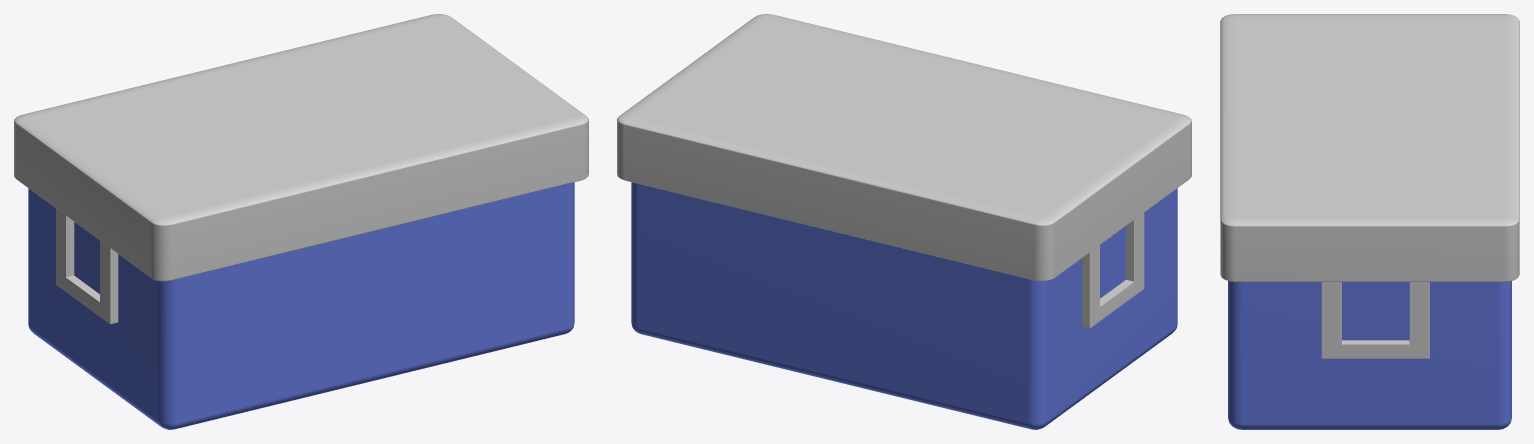
The model's file is Final_Cooler.fbx.
3 renders of one model, left to right at view 1: azimuth 30°, elevation 25°; view 2: azimuth 150°, elevation 25°; view 3: azimuth 270°, elevation 25°, orthographic.
Parts seen in each view (by area): view 1: pCube23, pCube22, pCube24; view 2: pCube23, pCube22, pCube24; view 3: pCube23, pCube22, pCube25.
Part boxes in pixels (left/top/right/bottom): pCube23: left=14, top=14, right=588, bottom=281; pCube22: left=28, top=182, right=574, bottom=429; pCube24: left=56, top=208, right=118, bottom=324; pCube23: left=617, top=14, right=1191, bottom=281; pCube22: left=631, top=182, right=1177, bottom=429; pCube24: left=1081, top=213, right=1144, bottom=328; pCube23: left=1220, top=14, right=1519, bottom=281; pCube22: left=1228, top=281, right=1511, bottom=429; pCube25: left=1321, top=282, right=1429, bottom=358.
Size of the model in its own units: 13 by 6.17 by 7.74.
